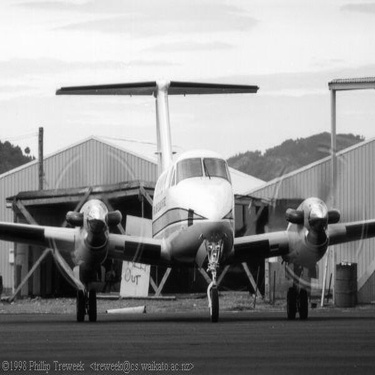airplane: (1, 60, 371, 327)
